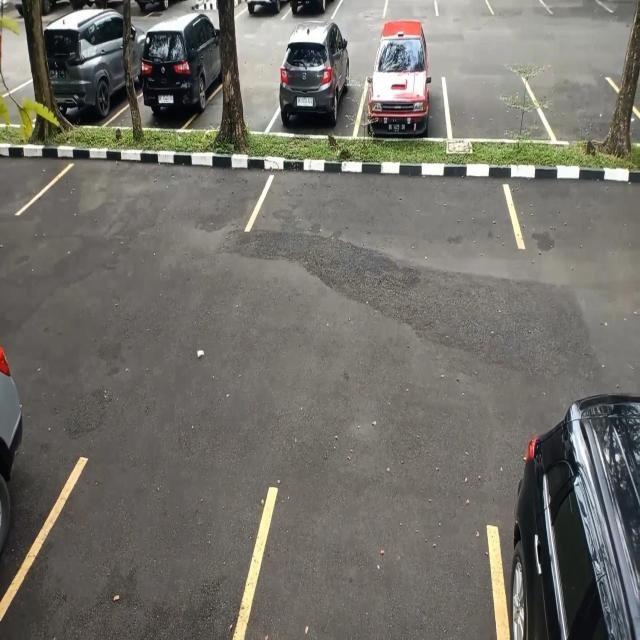empty: (235, 489, 506, 640), (261, 153, 521, 248), (41, 152, 264, 235), (542, 70, 639, 144), (446, 66, 540, 139)
occupied: (270, 39, 362, 135), (48, 24, 131, 128), (138, 28, 220, 130), (361, 40, 448, 136)
